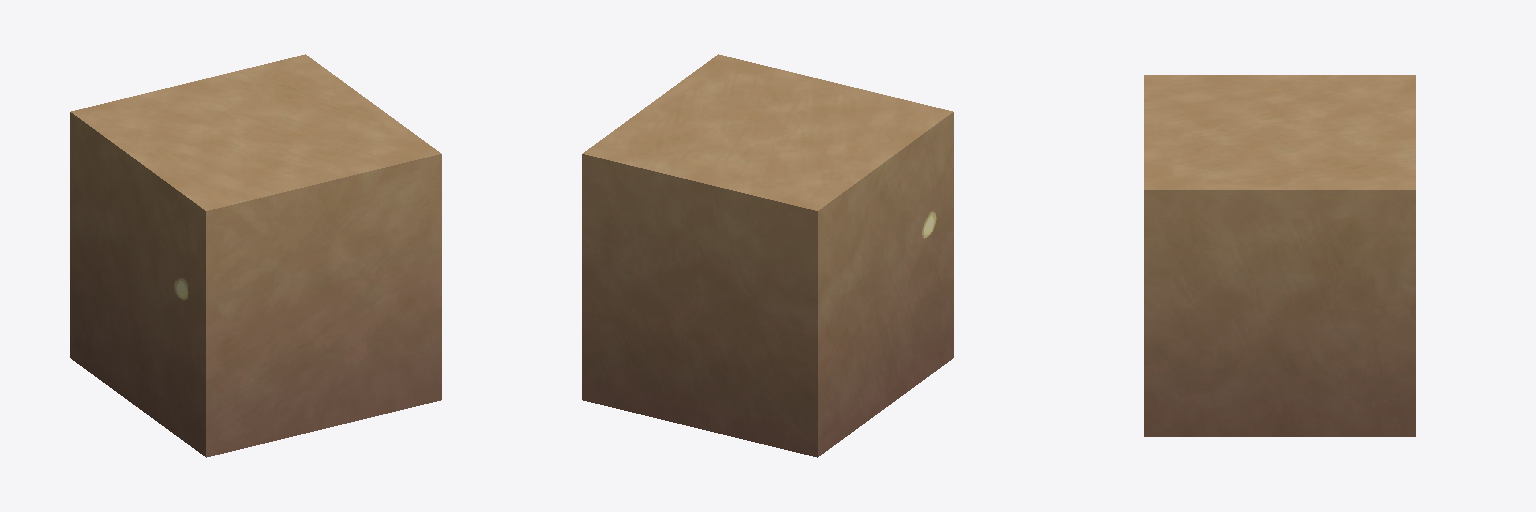
3 views of the same model, side by side, from view 1: azimuth 30°, elevation 25°; view 2: azimuth 150°, elevation 25°; view 3: azimuth 270°, elevation 25° (orthographic).
Visible parts, largest first — view 1: skybox; view 2: skybox; view 3: skybox.
Boxes of the visible parts, box(x1,y1,x2,y2) form: skybox: box(70, 54, 441, 457); skybox: box(582, 54, 953, 457); skybox: box(1144, 75, 1415, 436).
Bounding box in the file's own units: 66.34 × 66.34 × 66.34.
Materials: 5 (2 with a texture image).